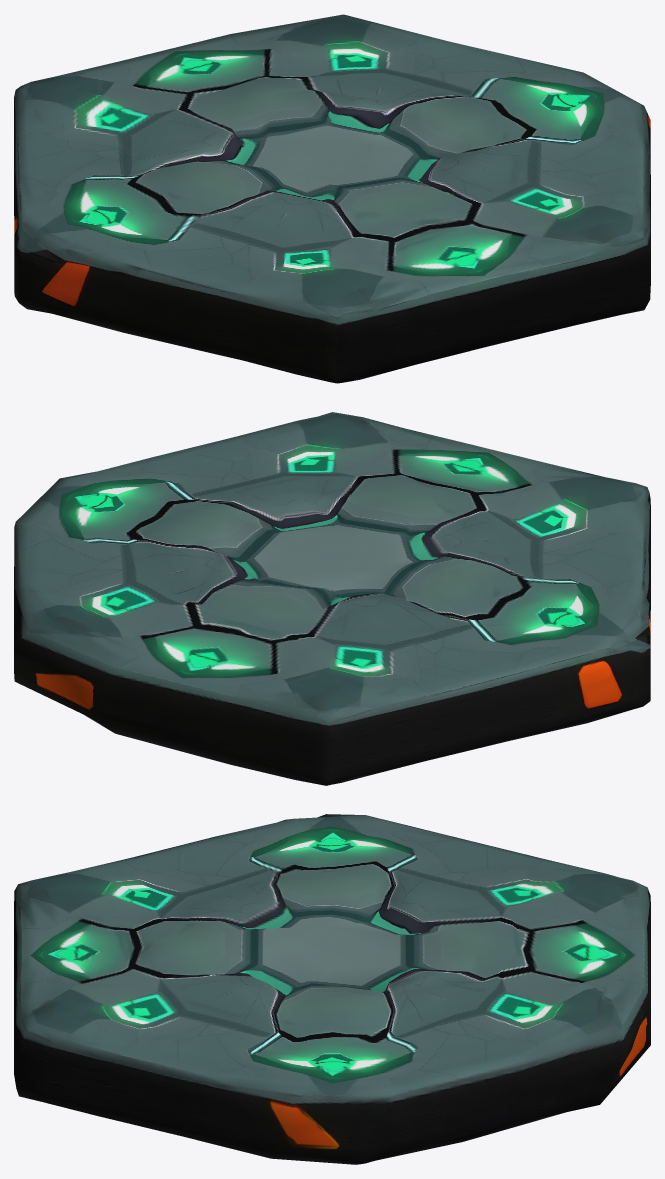
Rendered from floor_4.glb.
3 renders of one model, top to bottom at view 1: azimuth 30°, elevation 25°; view 2: azimuth 150°, elevation 25°; view 3: azimuth 270°, elevation 25°, orthographic.
Size of the model in its own units: 1.85 by 0.2402 by 1.69.
1 material, 1 textured.
